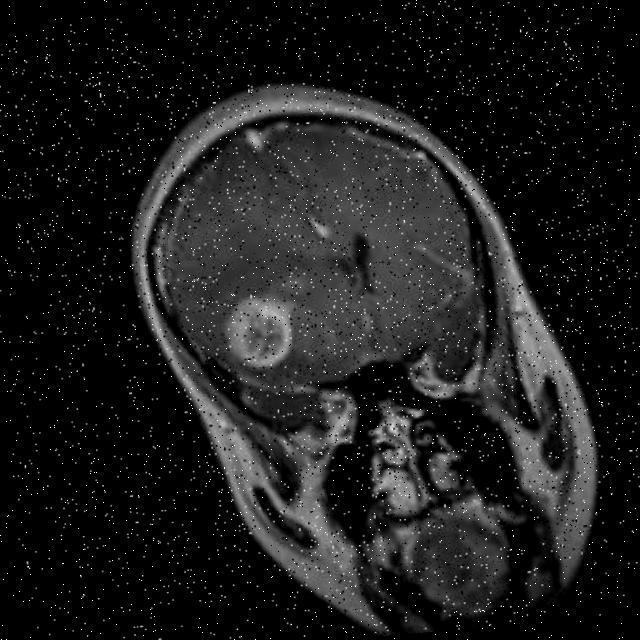CN: (186, 260, 342, 400)
